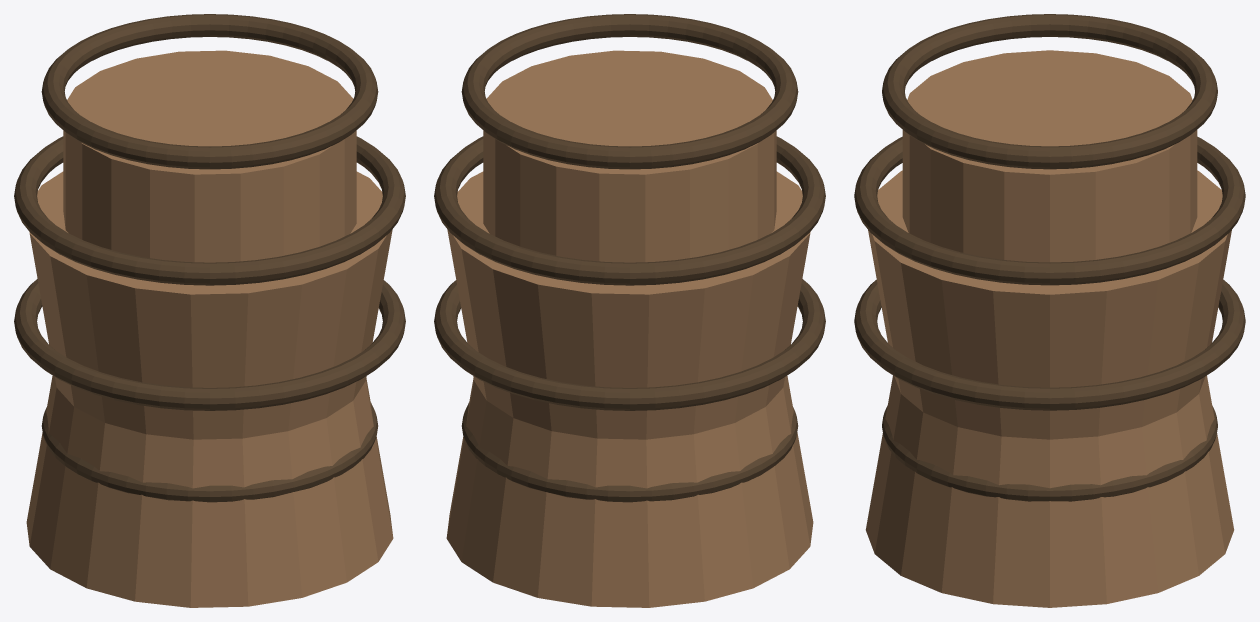
The model's file is barrel.glb.
3 renders of one model, left to right at view 1: azimuth 30°, elevation 25°; view 2: azimuth 150°, elevation 25°; view 3: azimuth 270°, elevation 25°, orthographic.
Parts seen in each view (by area): view 1: barrel; view 2: barrel; view 3: barrel.
Boxes of the visible parts, <box> form: barrel: <box>14,14,405,607</box>; barrel: <box>434,14,825,607</box>; barrel: <box>854,14,1245,607</box>.
Size of the model in its own units: 0.85 by 1.07 by 0.85.
